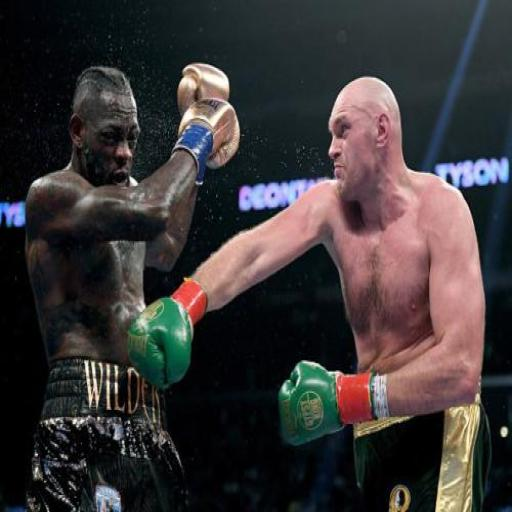boxing: (125, 72, 489, 510), (22, 60, 240, 510)
